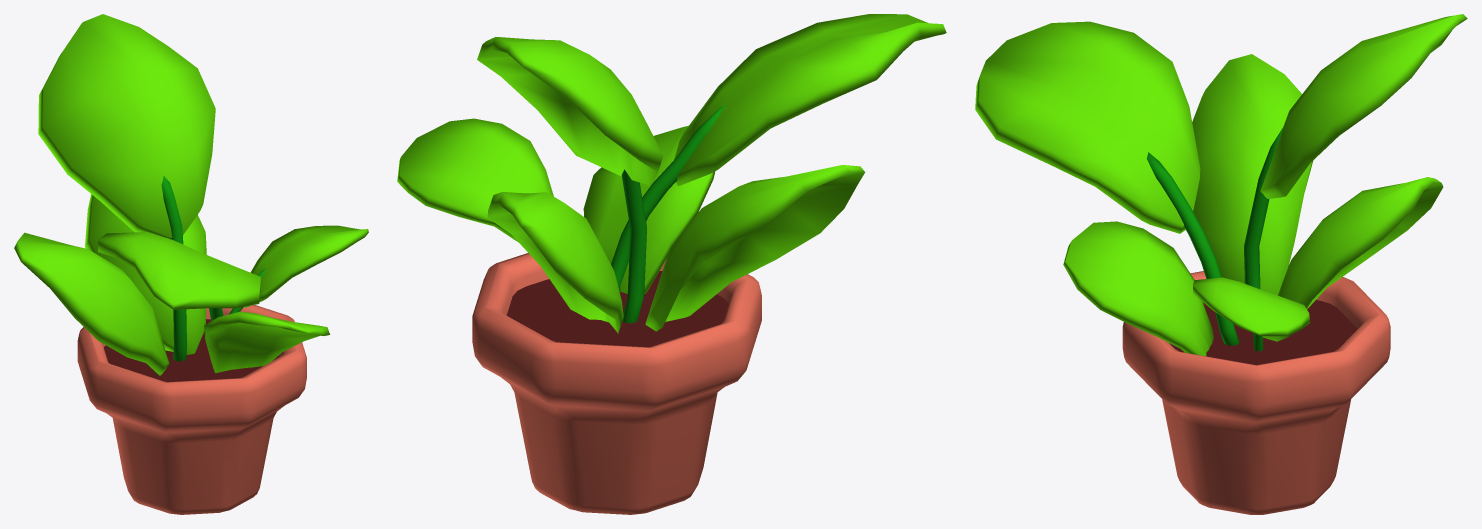
File: SM_Plant1.fbx
3 renders of one model, left to right at view 1: azimuth 30°, elevation 25°; view 2: azimuth 150°, elevation 25°; view 3: azimuth 270°, elevation 25°, orthographic. The views are drawn at different scales.
Parts seen in each view (by area): view 1: SPlant1; view 2: SPlant1; view 3: SPlant1.
Part boxes in pixels (x1,y1,x2,y2): SPlant1: [14, 14, 368, 514]; SPlant1: [397, 14, 946, 514]; SPlant1: [975, 14, 1467, 514].
Size of the model in its own units: 113 by 126 by 120.
